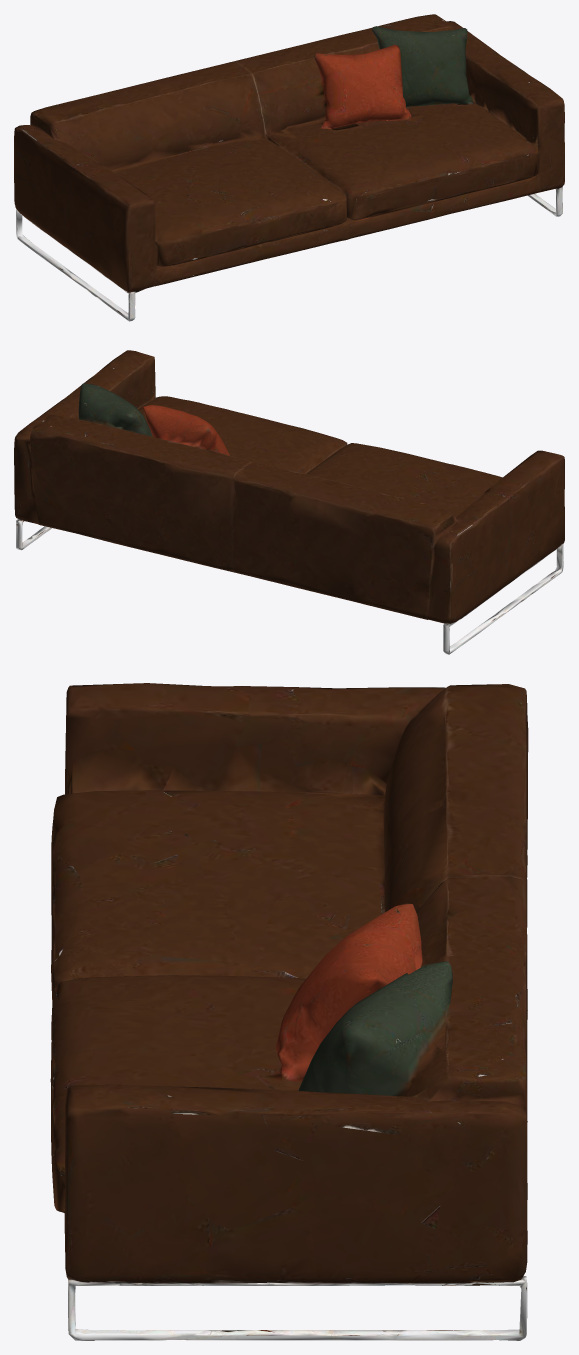
Rendered from sofa.glb.
The picture shows the model from 3 angles, top to bottom: view 1: azimuth 30°, elevation 25°; view 2: azimuth 150°, elevation 25°; view 3: azimuth 270°, elevation 25°; orthographic projection. The views are drawn at different scales.
Size of the model in its own units: 1.9 by 0.5948 by 0.8912.
1 material, 1 textured.
